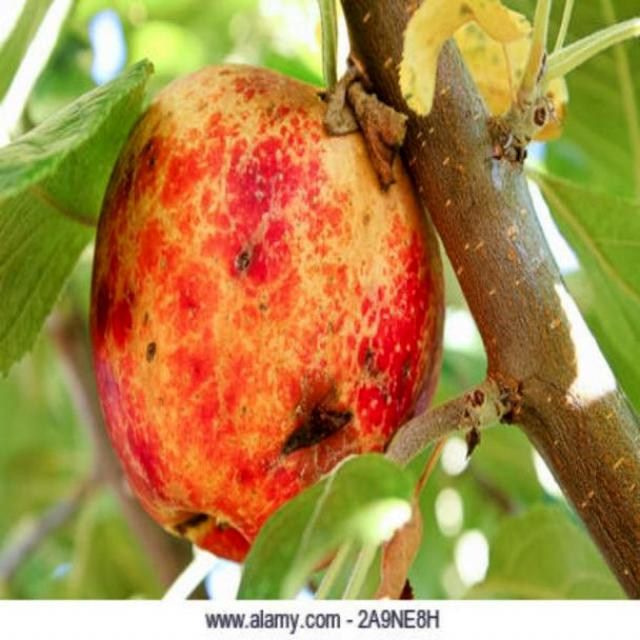SCAB: (95, 51, 462, 574)
